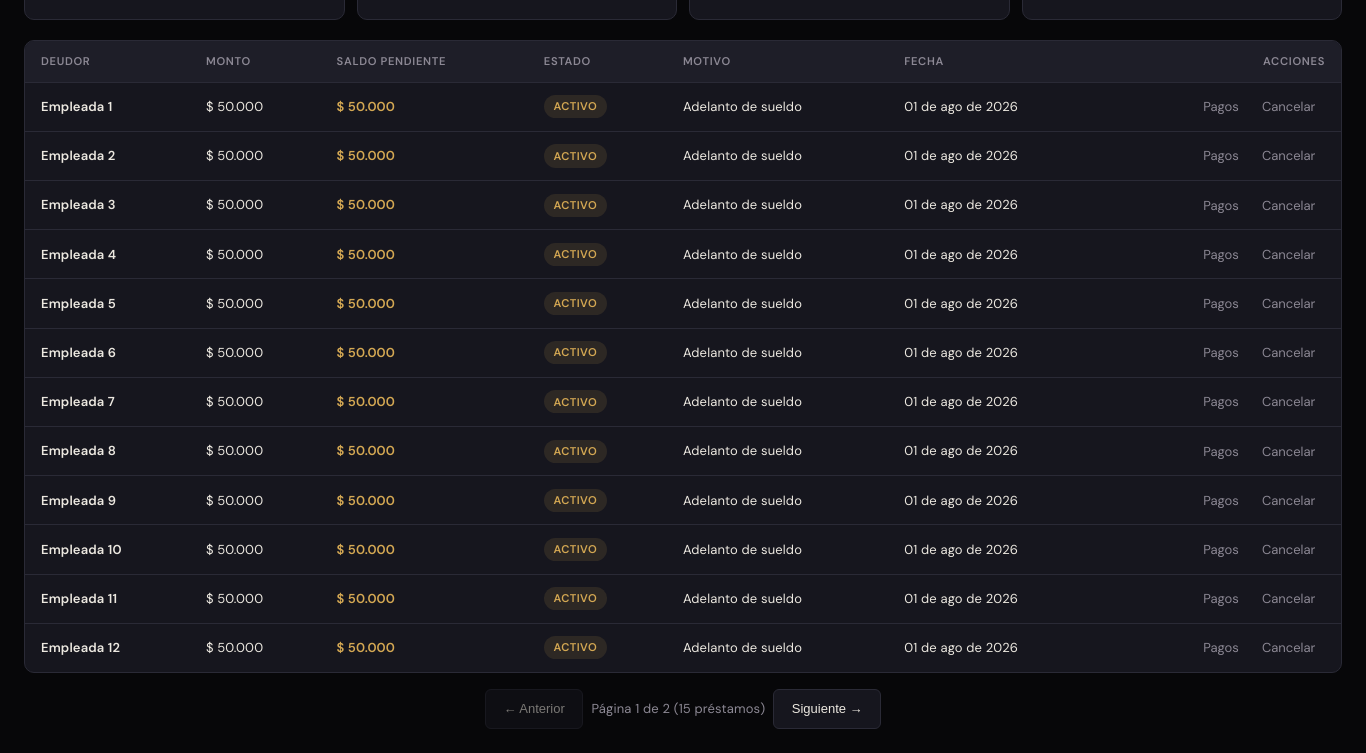
PrestamosPage — listado, creación, pagos y cancelación › muestra la paginación client-side con 15 préstamos
(page scrolled)
Expected: the text "Empleada 1" is shown, [41,98,112,115]
Expected: the text "Página 1 de 2 (15 préstamos)" is shown, [591,699,765,719]
What coordinates should you click on to do the following:
click the button "Siguiente →"
I would click on:
 (827, 709)
Its box is [773,689,881,729].
(page scrolled)
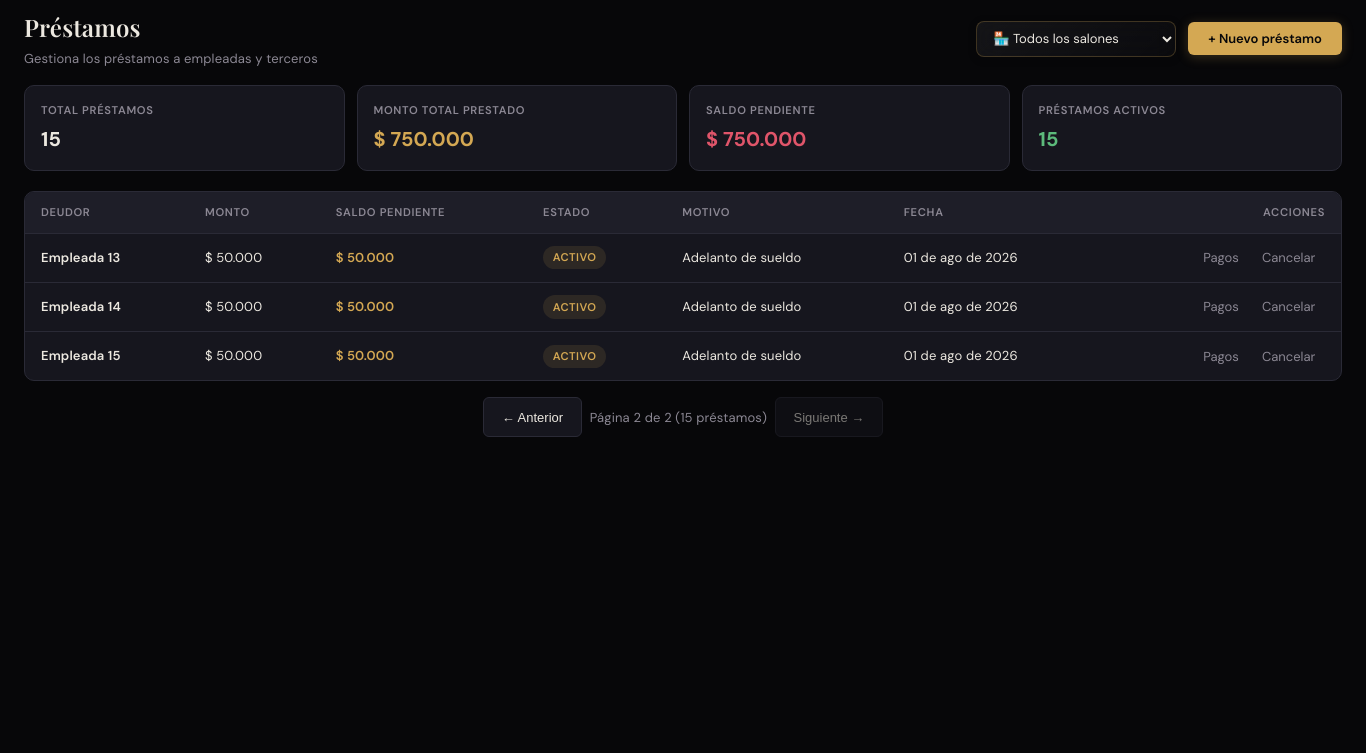
Result: the text "Empleada 13" is shown at [41,249,120,266]
